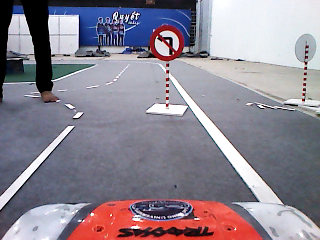ban: (149, 24, 185, 62)
